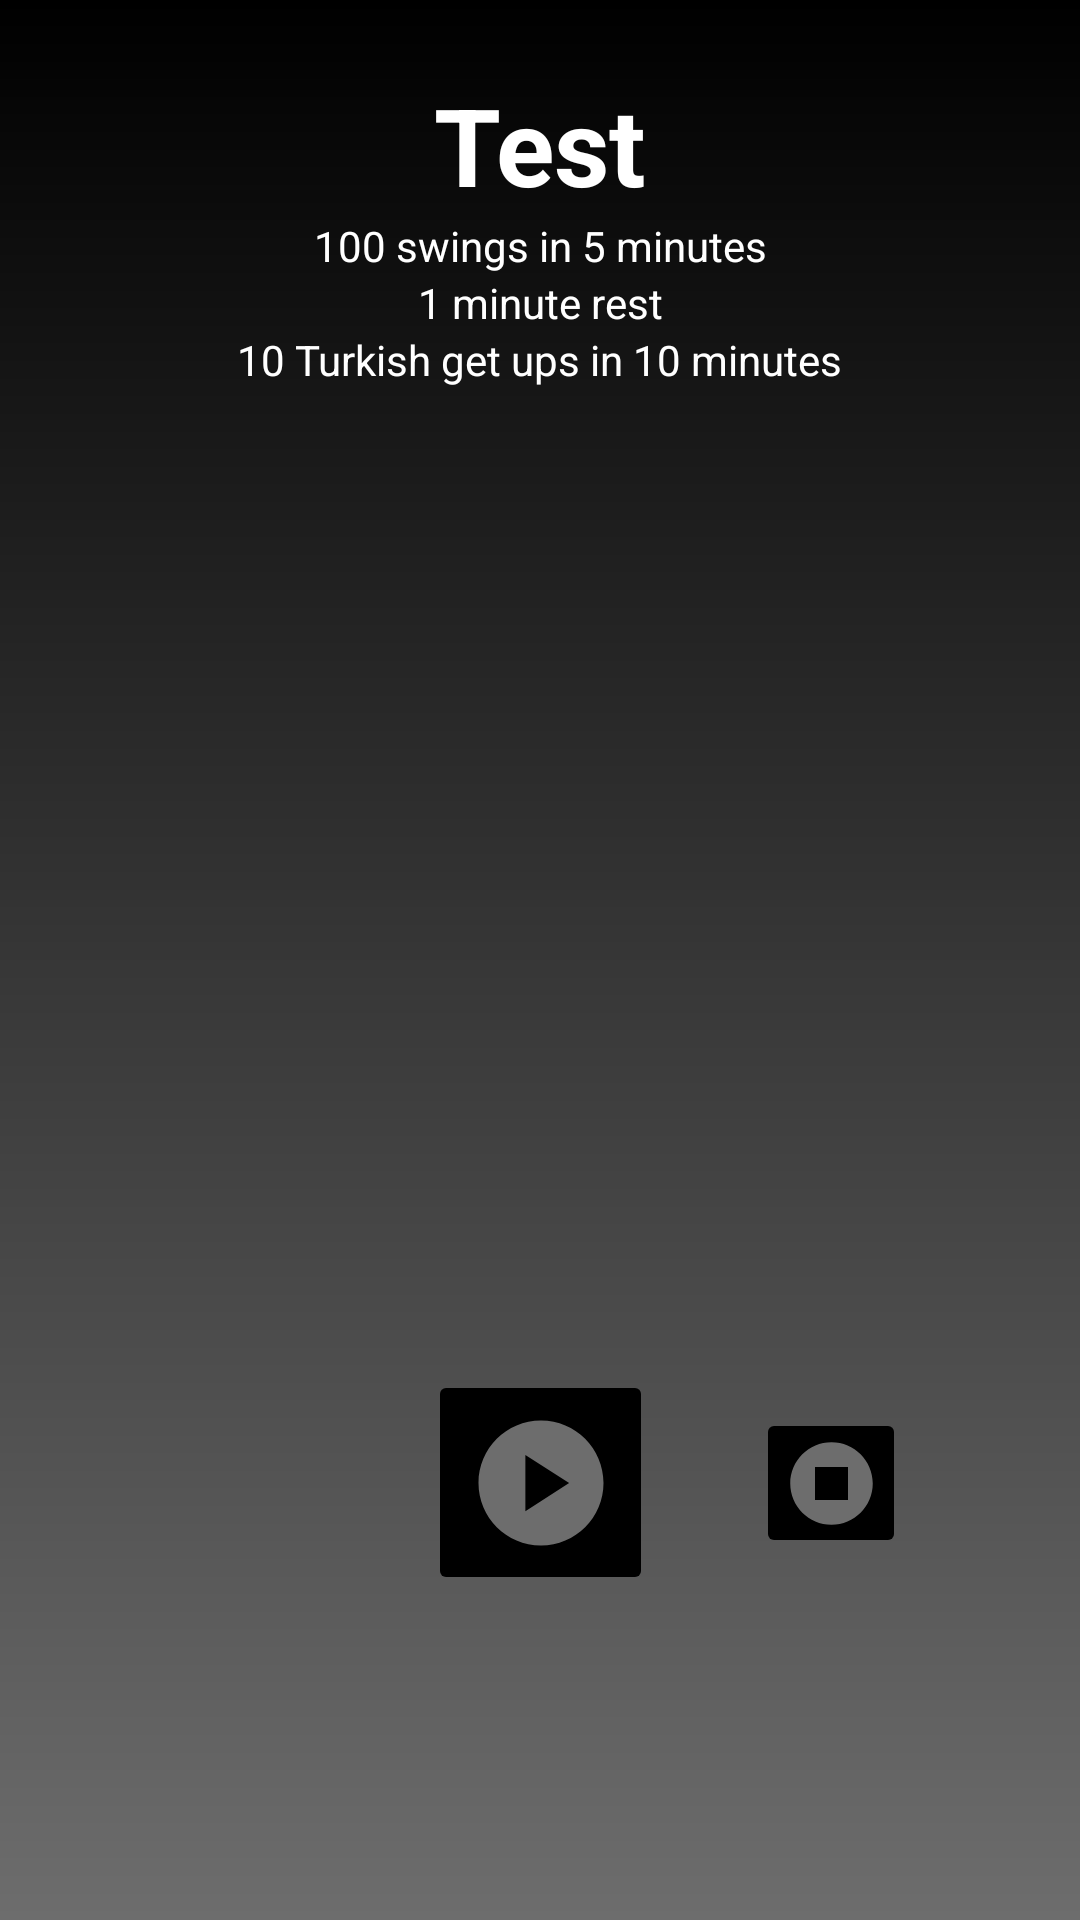

Locate icon controls on the screen. Image size 1080px x 1920px, boxes as BBox(x1, y1, x2, y2).
play: BBox(440, 1388, 641, 1577)
stop: BBox(768, 1426, 894, 1540)
